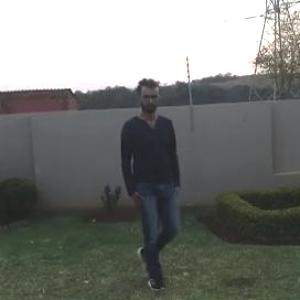follow: (111, 78, 180, 289)
